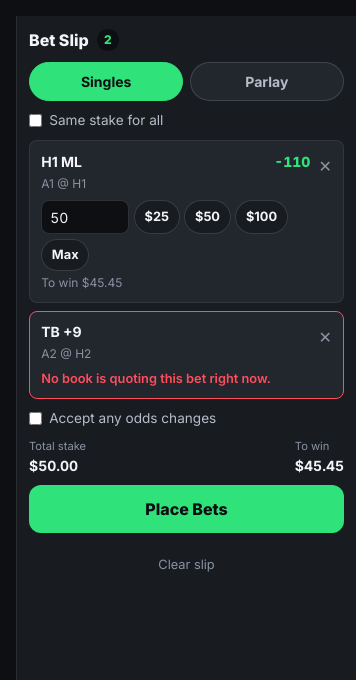
Scenario: BetSlip › never shows or sends a tailed leg the server refused at the friend's old price
Click the button "Place Bets" at (186, 510), box [29, 486, 344, 534]
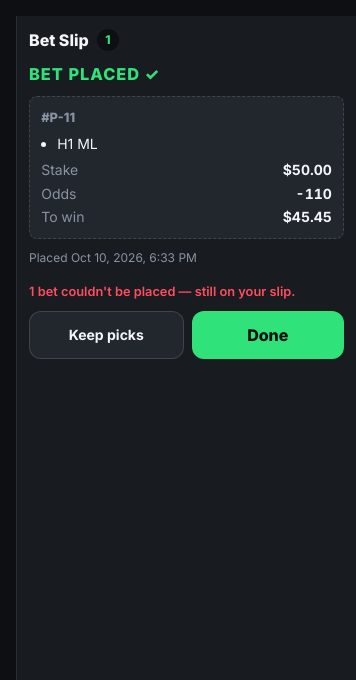
Expected: the text "#P-11" is shown, [41, 110, 75, 125]
